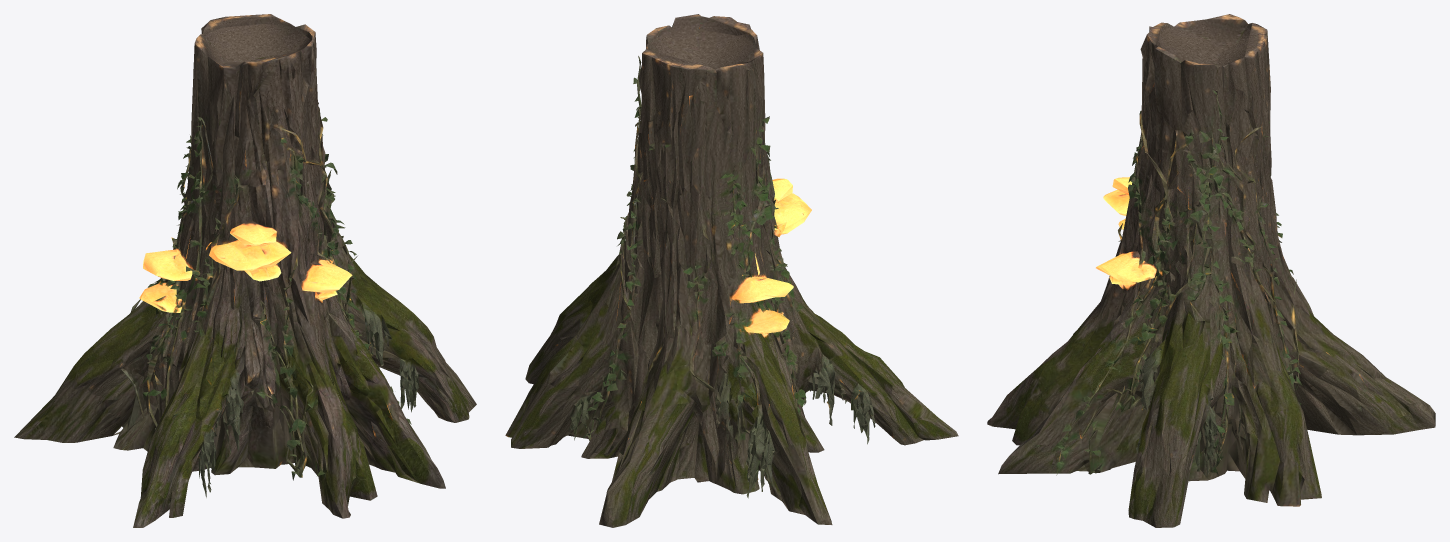
File: sp_mtree_1.glb
The picture shows the model from 3 angles, left to right: view 1: azimuth 30°, elevation 25°; view 2: azimuth 150°, elevation 25°; view 3: azimuth 270°, elevation 25°; orthographic projection.
Visible parts, largest first — view 1: Mesh_0; view 2: Mesh_0; view 3: Mesh_0.
Part boxes in pixels (x1,y1,x2,y2): Mesh_0: [14, 14, 476, 527]; Mesh_0: [505, 14, 958, 527]; Mesh_0: [987, 14, 1435, 527].
Size of the model in its own units: 1.87 by 1.86 by 1.88.
1 material, 1 textured.
